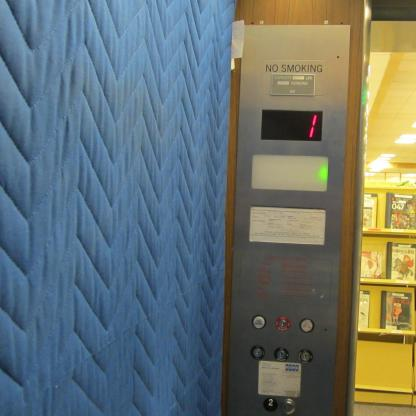2: (263, 397, 278, 411)
empty: (279, 398, 296, 414)
keyhole: (275, 316, 291, 331), (250, 344, 265, 360), (297, 349, 313, 363), (274, 347, 289, 361)
led: (261, 110, 322, 141)
text: (252, 315, 266, 329)
unknown: (300, 318, 314, 333)
